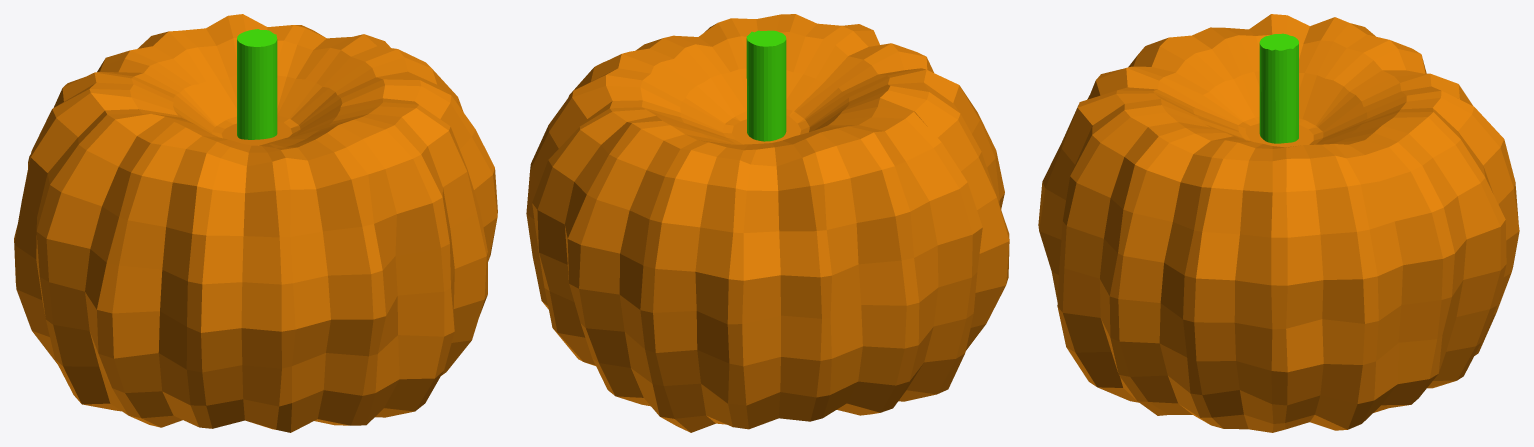
Rendered from Pumpkin.fbx.
The picture shows the model from 3 angles, left to right: view 1: azimuth 30°, elevation 25°; view 2: azimuth 150°, elevation 25°; view 3: azimuth 270°, elevation 25°; orthographic projection. The views are drawn at different scales.
Visible parts, largest first — view 1: Сфера, Цилиндр; view 2: Сфера, Цилиндр; view 3: Сфера, Цилиндр.
Part boxes in pixels (x1,y1,x2,y2): Сфера: [14, 14, 497, 432]; Цилиндр: [237, 29, 277, 139]; Сфера: [526, 14, 1009, 432]; Цилиндр: [746, 30, 786, 141]; Сфера: [1038, 14, 1519, 432]; Цилиндр: [1259, 33, 1298, 143].
Bounding box in the file's own units: 102 × 77.56 × 101.
